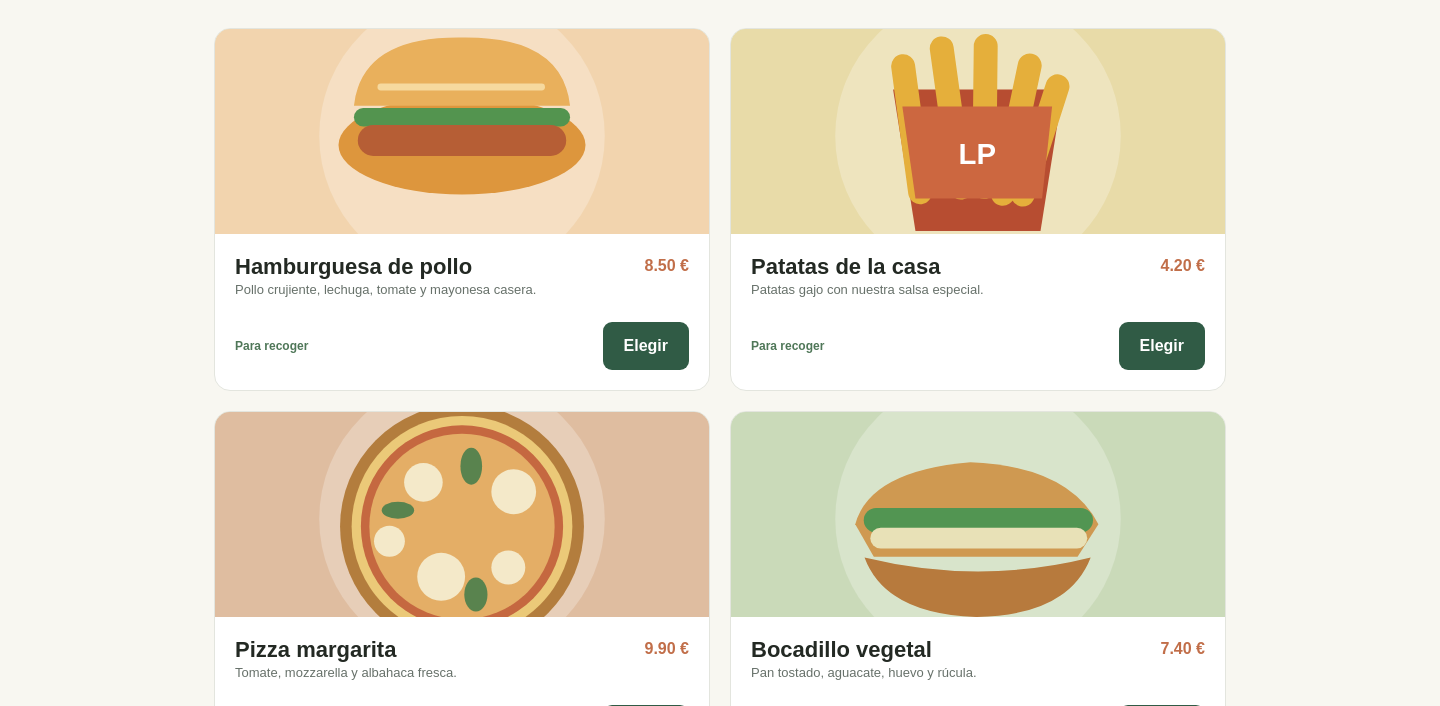
Test: AC 8.1 — permisos y sesión › un usuario autenticado puede hacer un pedido y no ve el stock
The width and height of the screenshot is (1440, 706).
(page scrolled)
Click the button "Elegir" below "Hamburguesa de pollo" at (646, 346), box [602,322,689,370]
(page scrolled)
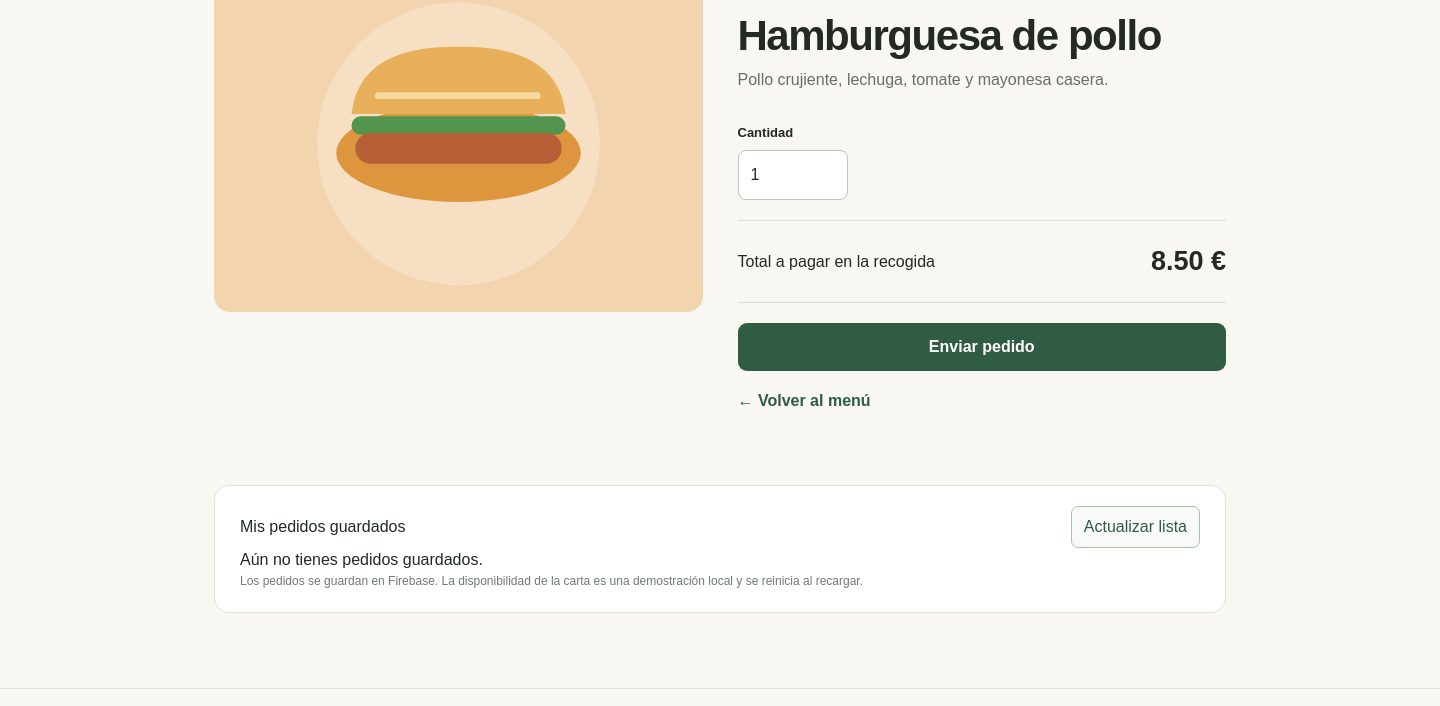
Replace the text in the number field labelled "Cantidad" with "5" at (792, 176), box [738,150,848,200]
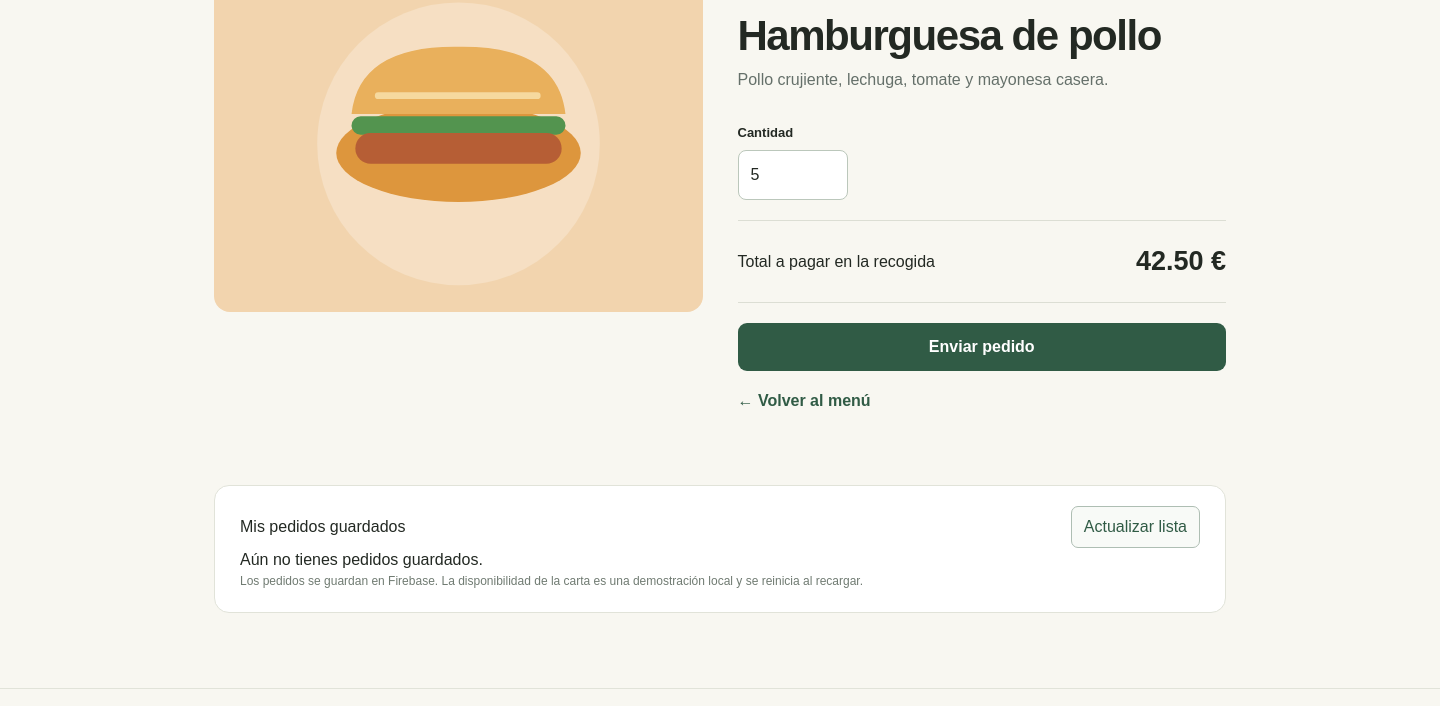
Check: the text "42.50 €" is shown, box [1136,246,1226,278]
Click the button "Enviar pedido" at (982, 348), box [738,324,1226,372]
(page scrolled)
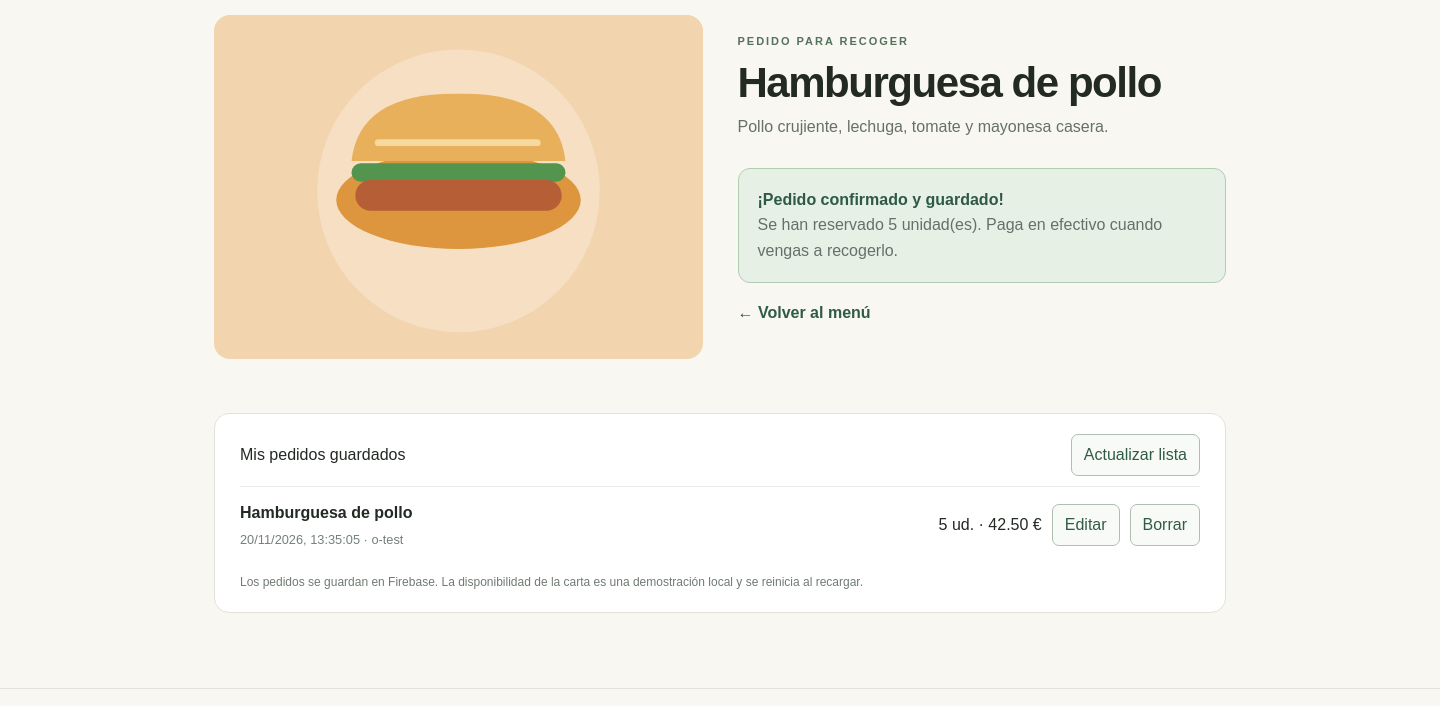
Check: the text "¡Pedido confirmado y guardado!" is shown, box [758,191,1004,208]
